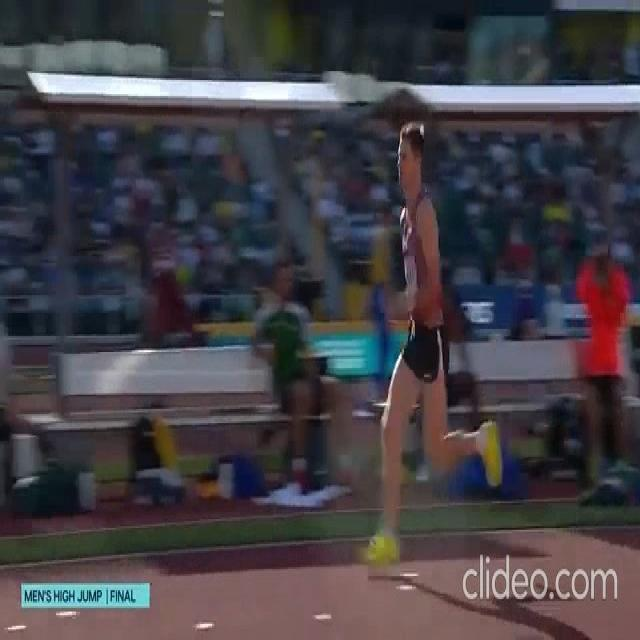run: (361, 127, 505, 558)
